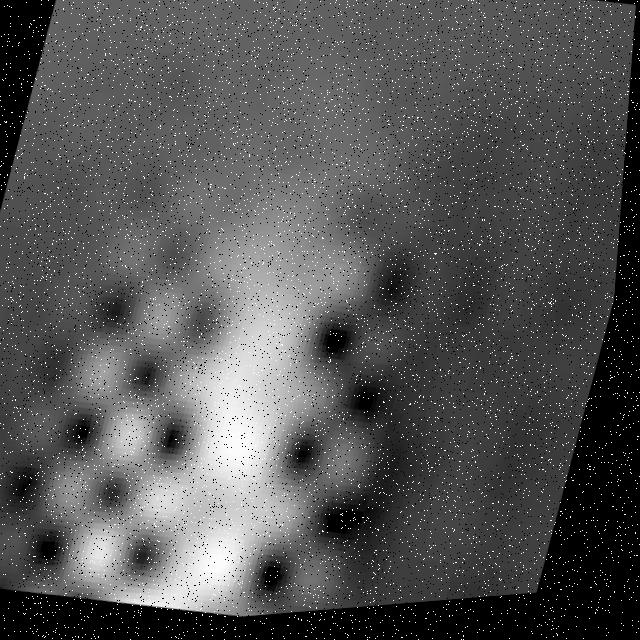person: (48, 134, 417, 636)
